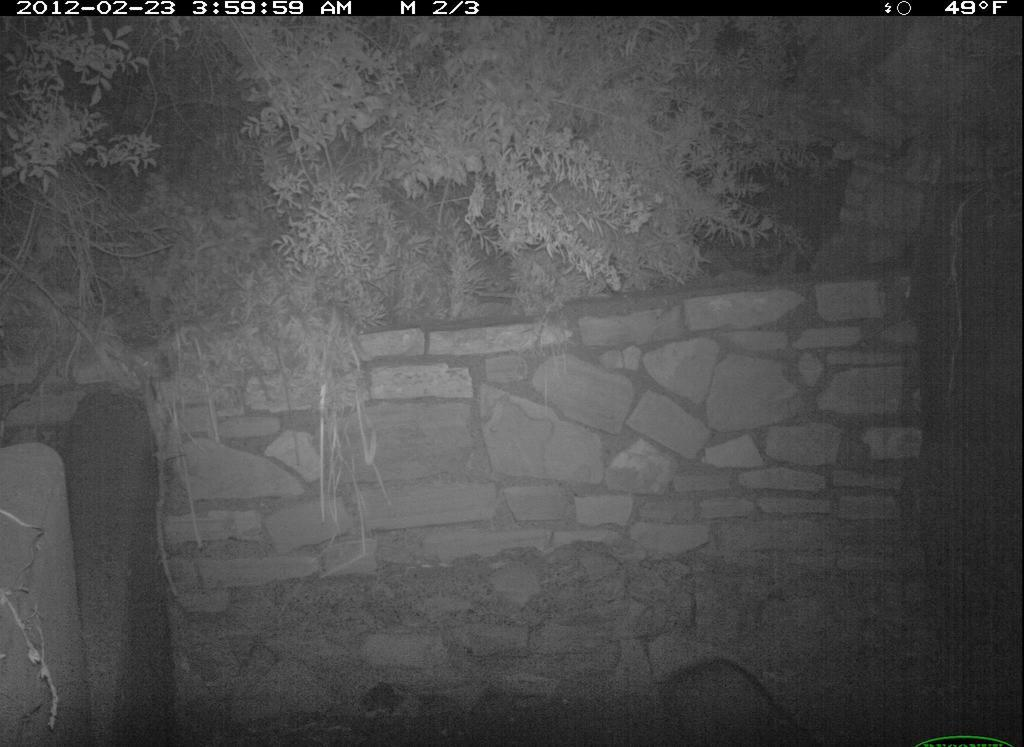raccoon: (634, 639, 804, 747)
